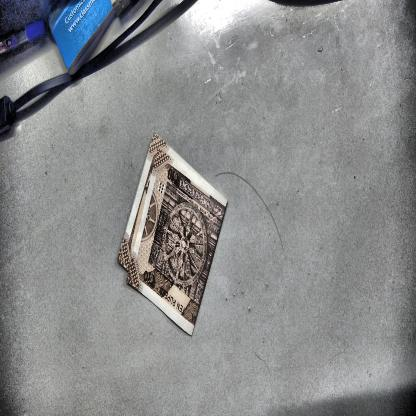Rs10: (165, 166, 182, 188)
